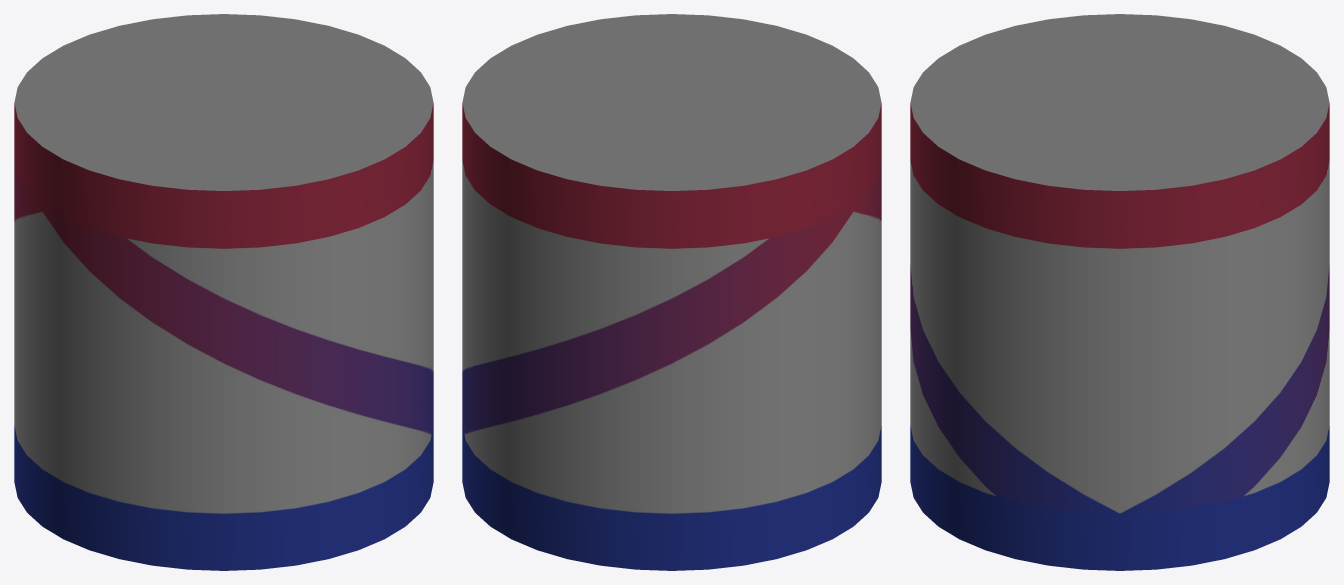
3 renders of one model, left to right at view 1: azimuth 30°, elevation 25°; view 2: azimuth 150°, elevation 25°; view 3: azimuth 270°, elevation 25°, orthographic.
Visible parts, largest first — view 1: Cylinder, _mm1; view 2: Cylinder, _mm1; view 3: Cylinder, _mm1.
Boxes of the visible parts, x1,y1,x2,y2 form: Cylinder: (14, 103, 433, 570); _mm1: (14, 14, 433, 190); Cylinder: (462, 103, 881, 570); _mm1: (462, 14, 881, 190); Cylinder: (910, 103, 1329, 570); _mm1: (910, 14, 1329, 190).
Size of the model in its own units: 1 by 1 by 1.
Materials: 3 (3 with a texture image).
